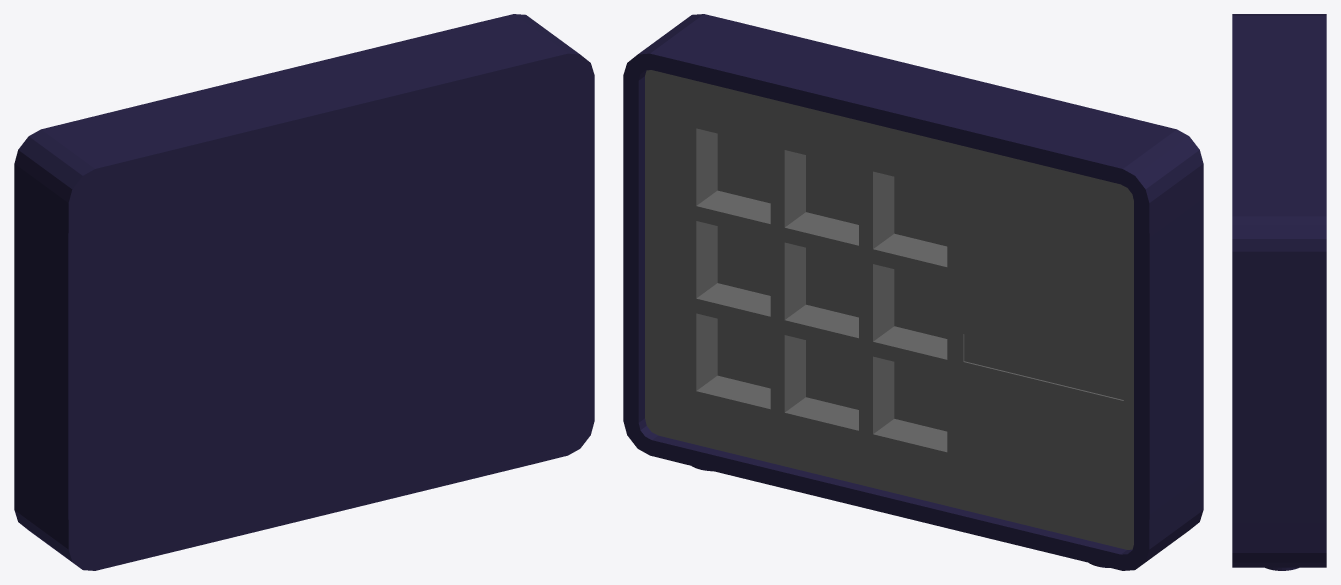
The model's file is PuzleListas.fbx.
3 renders of one model, left to right at view 1: azimuth 30°, elevation 25°; view 2: azimuth 150°, elevation 25°; view 3: azimuth 270°, elevation 25°, orthographic. The views are drawn at different scales.
Visible parts, largest first — view 1: Cube; view 2: Cube; view 3: Cube.
Boxes of the visible parts, x1,y1,x2,y2 form: Cube: (14,14,594,570); Cube: (623,14,1203,570); Cube: (1232,14,1326,570).
Bounding box in the file's own units: 357 × 269 × 63.67.
